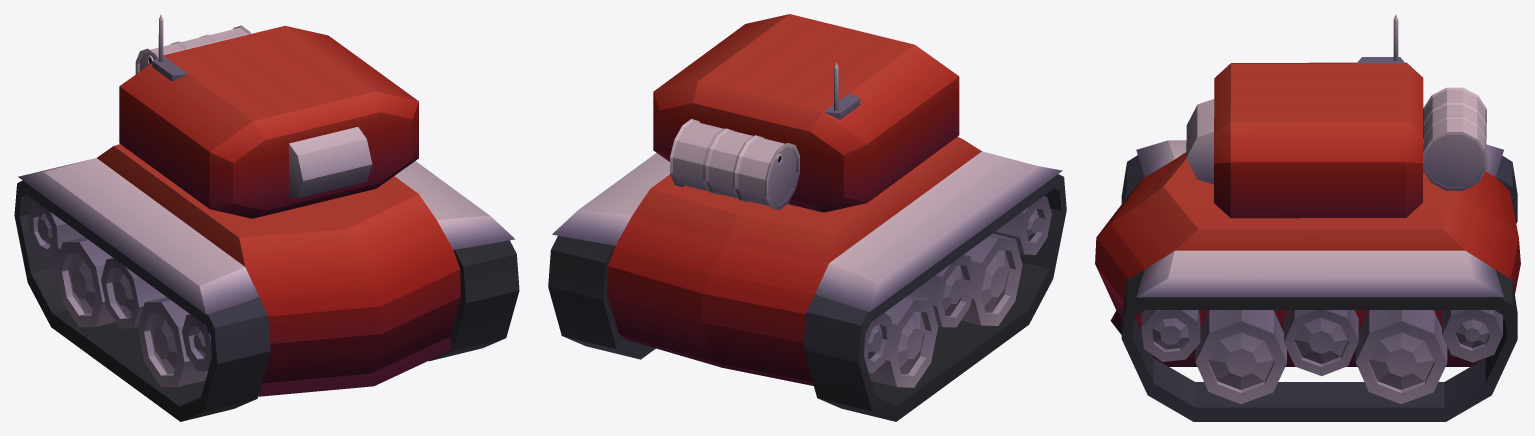
File: Tank_Smasher.fbx
3 views of the same model, side by side, from view 1: azimuth 30°, elevation 25°; view 2: azimuth 150°, elevation 25°; view 3: azimuth 270°, elevation 25° (orthographic). The views are drawn at different scales.
Parts seen in each view (by area): view 1: Body Smasher, Head Smasher; view 2: Body Smasher, Head Smasher; view 3: Body Smasher, Head Smasher.
Part boxes in pixels (x1=…): Body Smasher: x1=14, y1=144, x2=519, y2=421; Head Smasher: x1=119, y1=14, x2=418, y2=218; Body Smasher: x1=548, y1=136, x2=1066, y2=421; Head Smasher: x1=653, y1=14, x2=959, y2=212; Body Smasher: x1=1095, y1=140, x2=1520, y2=421; Head Smasher: x1=1186, y1=14, x2=1487, y2=218.
Size of the model in its own units: 334 by 322 by 408.
